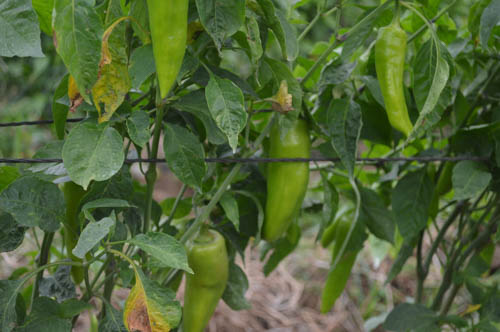ChiliPepper: (266, 120, 308, 252), (374, 25, 419, 142), (180, 240, 231, 332), (147, 2, 187, 111), (56, 176, 88, 284), (327, 217, 359, 316)
